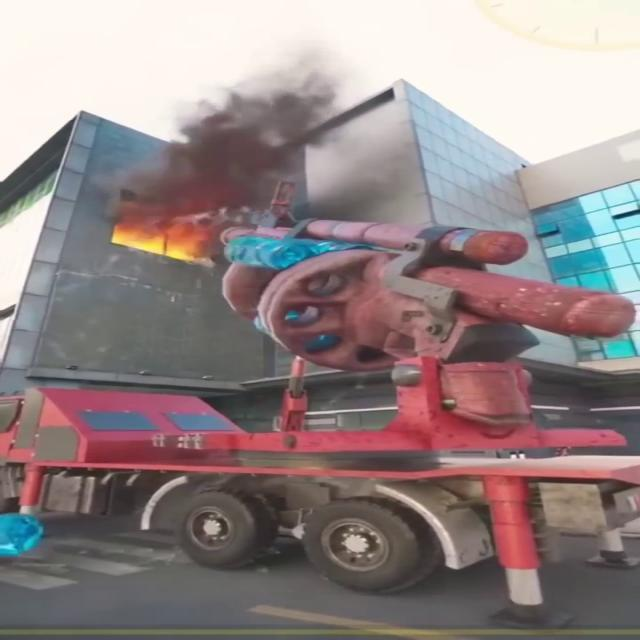Fire: (105, 212, 214, 262)
Smoke: (115, 28, 425, 212)
